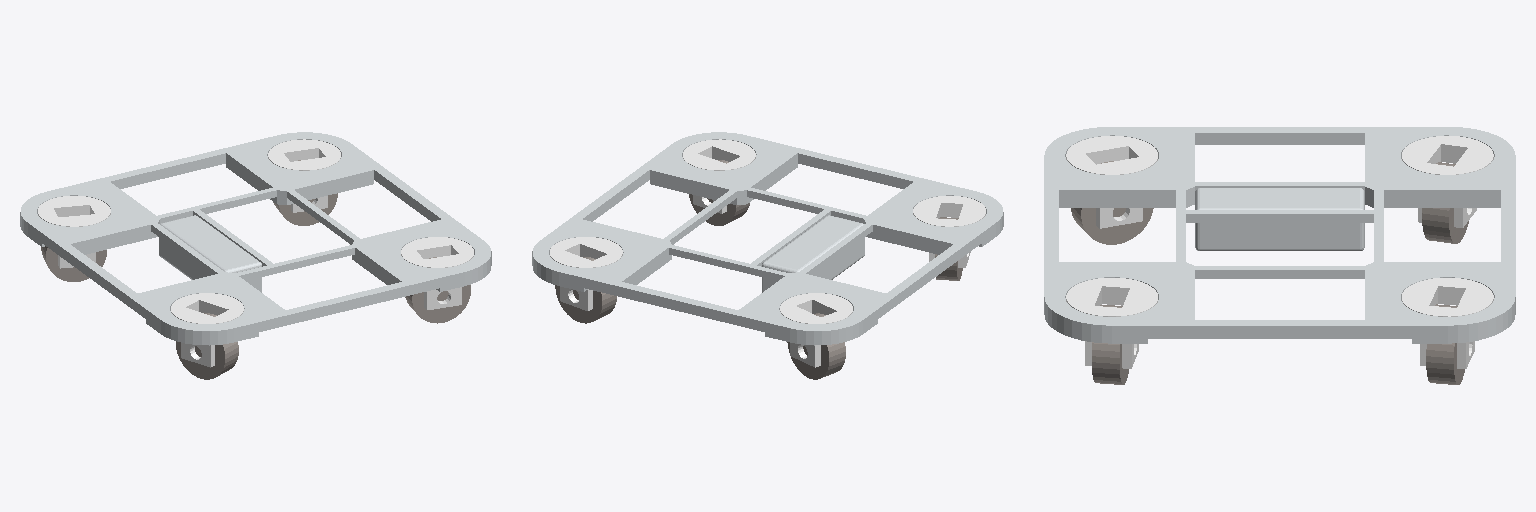
The robot description file, URDF, robot "swerve2":
<?xml version="1.0" encoding="utf-8"?>
<!-- This URDF was automatically created by SolidWorks to URDF Exporter! Originally created by [author] ([email redacted]) 
     Commit Version: 1.6.0-4-g7f85cfe  Build Version: 1.6.7995.38578
     For more information, please see http://wiki.ros.org/sw_urdf_exporter -->
<robot
  name="swerve2">
  <link
    name="base_link">
    <inertial>
      <origin
        xyz="0.226401216207925 0.250000000000002 0.083214299680983"
        rpy="0 0 0" />
      <mass
        value="3.00064129669063" />
      <inertia
        ixx="0.00796442280563065"
        ixy="1.66018457661843E-19"
        ixz="1.85910797604398E-19"
        iyy="0.00543817220574471"
        iyz="1.94453820315397E-18"
        izz="0.0128600718019731" />
    </inertial>
    <visual>
      <origin
        xyz="0 0 0"
        rpy="0 0 0" />
      <geometry>
        <mesh
          filename="package://swerve2/meshes/base_link.STL" />
      </geometry>
      <material
        name="">
        <color
          rgba="0.898039215686275 0.917647058823529 0.929411764705882 1" />
      </material>
    </visual>
    <collision>
      <origin
        xyz="0 0 0"
        rpy="0 0 0" />
      <geometry>
        <mesh
          filename="package://swerve2/meshes/base_link.STL" />
      </geometry>
    </collision>
  </link>
  <link
    name="steer3">
    <inertial>
      <origin
        xyz="4.413136522885E-15 1.83186799063151E-15 0.0517722817308296"
        rpy="0 0 0" />
      <mass
        value="0.221804775243313" />
      <inertia
        ixx="0.000211243121993586"
        ixy="-3.50645943433421E-07"
        ixz="7.58409455911096E-21"
        iyy="0.000195930293027145"
        iyz="-7.90715772752074E-20"
        izz="0.000272151766439536" />
    </inertial>
    <visual>
      <origin
        xyz="0 0 0"
        rpy="0 0 0" />
      <geometry>
        <mesh
          filename="package://swerve2/meshes/steer3.STL" />
      </geometry>
      <material
        name="">
        <color
          rgba="1 1 1 1" />
      </material>
    </visual>
    <collision>
      <origin
        xyz="0 0 0"
        rpy="0 0 0" />
      <geometry>
        <mesh
          filename="package://swerve2/meshes/steer3.STL" />
      </geometry>
    </collision>
  </link>
  <joint
    name="steer3"
    type="continuous">
    <origin
      xyz="0.0719999999999939 0.428 0.0269999999999998"
      rpy="0 0 -0.289448210408933" />
    <parent
      link="base_link" />
    <child
      link="steer3" />
    <axis
      xyz="0 0 1" />
  </joint>
  <link
    name="wheel3">
    <inertial>
      <origin
        xyz="6.24500451351651E-17 4.413136522885E-15 -1.94289029309402E-15"
        rpy="0 0 0" />
      <mass
        value="0.764764182848667" />
      <inertia
        ixx="0.000394618383097326"
        ixy="3.07958141661762E-09"
        ixz="-1.34586598145767E-07"
        iyy="0.00039476479248657"
        iyz="-6.40134261845839E-06"
        izz="0.000674375470388449" />
    </inertial>
    <visual>
      <origin
        xyz="0 0 0"
        rpy="0 0 0" />
      <geometry>
        <mesh
          filename="package://swerve2/meshes/wheel3.STL" />
      </geometry>
      <material
        name="">
        <color
          rgba="0.686274509803922 0.658823529411765 0.63921568627451 1" />
      </material>
    </visual>
    <collision>
      <origin
        xyz="0 0 0"
        rpy="0 0 0" />
      <geometry>
        <mesh
          filename="package://swerve2/meshes/wheel3.STL" />
      </geometry>
    </collision>
  </link>
  <joint
    name="wheel3"
    type="continuous">
    <origin
      xyz="0 0 0.0150000000000001"
      rpy="1.57079632679486 1.54977467859669 0" />
    <parent
      link="steer3" />
    <child
      link="wheel3" />
    <axis
      xyz="0 0 1" />
    <dynamics
      friction="0.4" />
  </joint>
  <link
    name="steer1">
    <inertial>
      <origin
        xyz="0 0 0.0517722817308295"
        rpy="0 0 0" />
      <mass
        value="0.221804775243313" />
      <inertia
        ixx="0.000211251147171327"
        ixy="2.37169225231204E-20"
        ixz="-4.71721503225195E-20"
        iyy="0.000195922267849405"
        iyz="-9.87367055675388E-21"
        izz="0.000272151766439536" />
    </inertial>
    <visual>
      <origin
        xyz="0 0 0"
        rpy="0 0 0" />
      <geometry>
        <mesh
          filename="package://swerve2/meshes/steer1.STL" />
      </geometry>
      <material
        name="">
        <color
          rgba="1 1 1 1" />
      </material>
    </visual>
    <collision>
      <origin
        xyz="0 0 0"
        rpy="0 0 0" />
      <geometry>
        <mesh
          filename="package://swerve2/meshes/steer1.STL" />
      </geometry>
    </collision>
  </link>
  <joint
    name="steer1"
    type="continuous">
    <origin
      xyz="0.428 0.0719999999999983 0.0269999999999999"
      rpy="0 0 2.97398100734455" />
    <parent
      link="base_link" />
    <child
      link="steer1" />
    <axis
      xyz="0 0 1" />
  </joint>
  <link
    name="wheel1">
    <inertial>
      <origin
        xyz="0 0 5.55111512312578E-17"
        rpy="0 0 0" />
      <mass
        value="0.764764182848667" />
      <inertia
        ixx="0.000394618318349911"
        ixy="-5.46336250979024E-20"
        ixz="-3.3881317890172E-20"
        iyy="0.000394618318349911"
        iyz="3.04931861011548E-20"
        izz="0.000674522009272522" />
    </inertial>
    <visual>
      <origin
        xyz="0 0 0"
        rpy="0 0 0" />
      <geometry>
        <mesh
          filename="package://swerve2/meshes/wheel1.STL" />
      </geometry>
      <material
        name="">
        <color
          rgba="0.686274509803922 0.658823529411765 0.63921568627451 1" />
      </material>
    </visual>
    <collision>
      <origin
        xyz="0 0 0"
        rpy="0 0 0" />
      <geometry>
        <mesh
          filename="package://swerve2/meshes/wheel1.STL" />
      </geometry>
    </collision>
  </link>
  <joint
    name="wheel1"
    type="continuous">
    <origin
      xyz="0 0 0.015"
      rpy="-1.5707963267949 -0.774484498120501 -3.14159265358979" />
    <parent
      link="steer1" />
    <child
      link="wheel1" />
    <axis
      xyz="0 0 1" />
    <dynamics
      friction="0.4" />
  </joint>
  <link
    name="steer2">
    <inertial>
      <origin
        xyz="-5.55111512312578E-17 -1.11022302462516E-16 0.0517722817308295"
        rpy="0 0 0" />
      <mass
        value="0.221804775243313" />
      <inertia
        ixx="0.000211251147171327"
        ixy="-1.6940658945086E-20"
        ixz="-2.80681799882007E-20"
        iyy="0.000195922267849405"
        iyz="3.54895578353781E-20"
        izz="0.000272151766439535" />
    </inertial>
    <visual>
      <origin
        xyz="0 0 0"
        rpy="0 0 0" />
      <geometry>
        <mesh
          filename="package://swerve2/meshes/steer2.STL" />
      </geometry>
      <material
        name="">
        <color
          rgba="1 1 1 1" />
      </material>
    </visual>
    <collision>
      <origin
        xyz="0 0 0"
        rpy="0 0 0" />
      <geometry>
        <mesh
          filename="package://swerve2/meshes/steer2.STL" />
      </geometry>
    </collision>
  </link>
  <joint
    name="steer2"
    type="continuous">
    <origin
      xyz="0.428000000000003 0.427999999999998 0.0269999999999999"
      rpy="0 0 2.94603516749401" />
    <parent
      link="base_link" />
    <child
      link="steer2" />
    <axis
      xyz="0 0 1" />
  </joint>
  <link
    name="wheel2">
    <inertial>
      <origin
        xyz="-0.0128179063296511 -0.0126768007527251 3.33066907387547E-16"
        rpy="0 0 0" />
      <mass
        value="0.764764182848668" />
      <inertia
        ixx="0.000394618318349911"
        ixy="-2.56227466544426E-20"
        ixz="-7.16589873377138E-19"
        iyy="0.000394618318349911"
        iyz="4.81114714040443E-19"
        izz="0.000674522009272522" />
    </inertial>
    <visual>
      <origin
        xyz="0 0 0"
        rpy="0 0 0" />
      <geometry>
        <mesh
          filename="package://swerve2/meshes/wheel2.STL" />
      </geometry>
      <material
        name="">
        <color
          rgba="0.686274509803922 0.658823529411765 0.63921568627451 1" />
      </material>
    </visual>
    <collision>
      <origin
        xyz="0 0 0"
        rpy="0 0 0" />
      <geometry>
        <mesh
          filename="package://swerve2/meshes/wheel2.STL" />
      </geometry>
    </collision>
  </link>
  <joint
    name="wheel2"
    type="continuous">
    <origin
      xyz="0.00999999999999995 0 0"
      rpy="-1.57079632679491 1.37893541128008 3.14159265358978" />
    <parent
      link="steer2" />
    <child
      link="wheel2" />
    <axis
      xyz="0 0 1" />
    <dynamics
      friction="0.4" />
  </joint>
  <link
    name="steer4">
    <inertial>
      <origin
        xyz="6.93889390390723E-18 0 0.0517722817308295"
        rpy="0 0 0" />
      <mass
        value="0.221804775243313" />
      <inertia
        ixx="0.000210007818064125"
        ixy="-4.18485060341668E-06"
        ixz="4.39779990678496E-20"
        iyy="0.000197165596956607"
        iyz="2.65296824820593E-20"
        izz="0.000272151766439536" />
    </inertial>
    <visual>
      <origin
        xyz="0 0 0"
        rpy="0 0 0" />
      <geometry>
        <mesh
          filename="package://swerve2/meshes/steer4.STL" />
      </geometry>
      <material
        name="">
        <color
          rgba="1 1 1 1" />
      </material>
    </visual>
    <collision>
      <origin
        xyz="0 0 0"
        rpy="0 0 0" />
      <geometry>
        <mesh
          filename="package://swerve2/meshes/steer4.STL" />
      </geometry>
    </collision>
  </link>
  <joint
    name="steer4"
    type="continuous">
    <origin
      xyz="0.072 0.0719999999999996 0.027"
      rpy="0 0 2.25169507822681" />
    <parent
      link="base_link" />
    <child
      link="steer4" />
    <axis
      xyz="0 0 1" />
  </joint>
  <link
    name="wheel4">
    <inertial>
      <origin
        xyz="7.07767178198537E-16 -7.35522753814166E-16 2.63677968348475E-16"
        rpy="0 0 0" />
      <mass
        value="0.764764182848667" />
      <inertia
        ixx="0.000399446152339061"
        ixy="-9.28970422225814E-06"
        ixz="3.52380755314603E-05"
        iyy="0.000412493540391718"
        iyz="-6.78050031928476E-05"
        izz="0.000651818953241564" />
    </inertial>
    <visual>
      <origin
        xyz="0 0 0"
        rpy="0 0 0" />
      <geometry>
        <mesh
          filename="package://swerve2/meshes/wheel4.STL" />
      </geometry>
      <material
        name="">
        <color
          rgba="0.686274509803922 0.658823529411765 0.63921568627451 1" />
      </material>
    </visual>
    <collision>
      <origin
        xyz="0 0 0"
        rpy="0 0 0" />
      <geometry>
        <mesh
          filename="package://swerve2/meshes/wheel4.STL" />
      </geometry>
    </collision>
  </link>
  <joint
    name="wheel4"
    type="continuous">
    <origin
      xyz="0 0 0.015"
      rpy="-1.5707963267949 1.09151535378322 -3.14159265358979" />
    <parent
      link="steer4" />
    <child
      link="wheel4" />
    <axis
      xyz="0 0 1" />
    <dynamics
      friction="0.4" />
  </joint>
</robot>

--- What the picture shows (computed from the rendered views, not written in the file) ---
The picture shows the robot from 3 angles, left to right: view 1: azimuth 30°, elevation 25°; view 2: azimuth 150°, elevation 25°; view 3: azimuth 270°, elevation 25°; orthographic projection.
Robot: swerve2 — 9 links, 8 joints (8 continuous); root link base_link; default pose: all joints at 0.
Visible links, largest first — view 1: base_link, steer1, steer4, steer2, steer3, wheel4, wheel1, wheel3, wheel2; view 2: base_link, steer2, steer3, steer1, steer4, wheel3, wheel2, wheel1; view 3: base_link, steer4, steer2, steer1, steer3, wheel4, wheel2, wheel1, wheel3.
Link boxes in pixels (x1=…): base_link: x1=20, y1=132, x2=491, y2=345; steer1: x1=401, y1=237, x2=473, y2=309; steer4: x1=171, y1=293, x2=243, y2=367; steer2: x1=268, y1=139, x2=340, y2=212; steer3: x1=38, y1=196, x2=110, y2=268; wheel4: x1=176, y1=313, x2=238, y2=379; wheel1: x1=405, y1=257, x2=470, y2=323; wheel3: x1=41, y1=246, x2=106, y2=281; wheel2: x1=273, y1=160, x2=337, y2=225; base_link: x1=532, y1=132, x2=1003, y2=345; steer2: x1=550, y1=237, x2=622, y2=310; steer3: x1=780, y1=293, x2=852, y2=367; steer1: x1=683, y1=139, x2=755, y2=213; steer4: x1=913, y1=196, x2=985, y2=267; wheel3: x1=787, y1=313, x2=845, y2=379; wheel2: x1=555, y1=257, x2=616, y2=323; wheel1: x1=689, y1=160, x2=749, y2=225; base_link: x1=1044, y1=127, x2=1515, y2=343; steer4: x1=1066, y1=136, x2=1157, y2=228; steer2: x1=1402, y1=278, x2=1493, y2=368; steer1: x1=1066, y1=278, x2=1157, y2=368; steer3: x1=1402, y1=136, x2=1493, y2=227; wheel4: x1=1071, y1=161, x2=1153, y2=244; wheel2: x1=1426, y1=304, x2=1464, y2=384; wheel1: x1=1092, y1=305, x2=1128, y2=384; wheel3: x1=1422, y1=162, x2=1468, y2=243.
Bounding box of the posed robot: 0.5 × 0.5 × 0.098 m (x, y, z).
9 mesh visuals loaded from 9 distinct referenced files (9 binary STL).